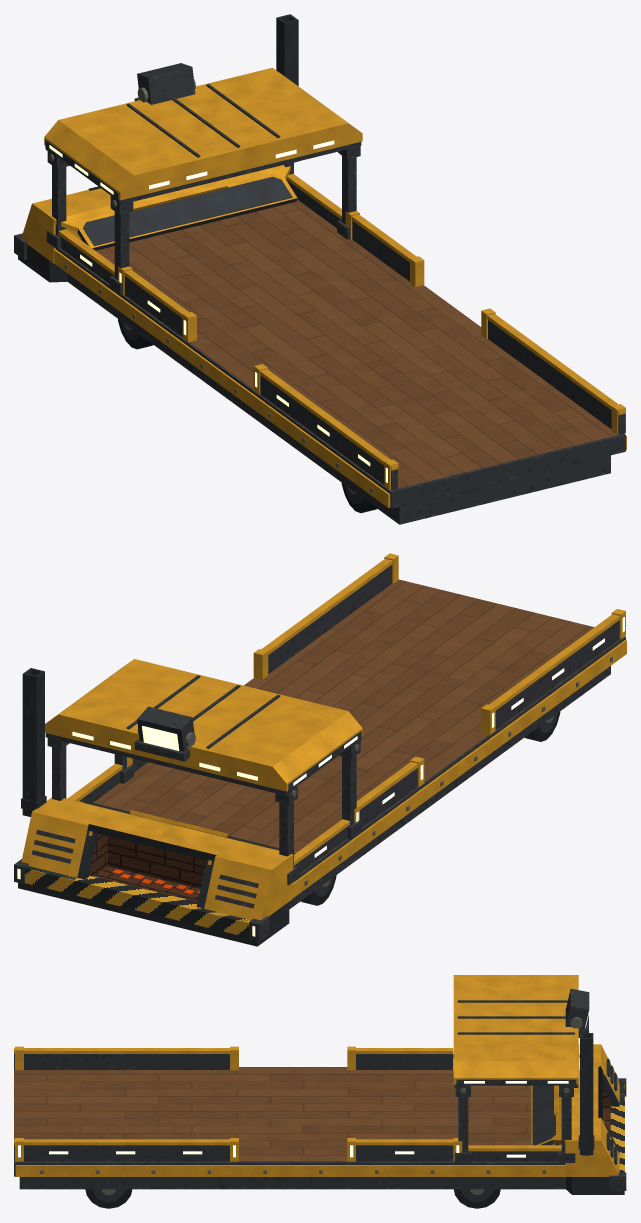
Rendered from YardMule-Refined.fbx.
The picture shows the model from 3 angles, top to bottom: view 1: azimuth 30°, elevation 25°; view 2: azimuth 150°, elevation 25°; view 3: azimuth 270°, elevation 25°; orthographic projection. The views are drawn at different scales.
Visible parts, largest first — view 1: Train Body, Canopy and spotlight, Wheels; view 2: Train Body, Canopy and spotlight, Wheels; view 3: Train Body, Canopy and spotlight, Wheels.
Boxes of the visible parts, x1,y1,x2,y2 form: Train Body: [14, 14, 626, 524]; Canopy and spotlight: [44, 63, 362, 204]; Wheels: [118, 319, 377, 513]; Train Body: [14, 553, 626, 946]; Canopy and spotlight: [45, 659, 362, 795]; Wheels: [301, 711, 560, 905]; Train Body: [14, 992, 626, 1194]; Canopy and spotlight: [453, 975, 589, 1087]; Wheels: [85, 1189, 500, 1208].
Bounding box in the file's own units: 439 × 367 × 1098.
8 materials, 7 textured.
